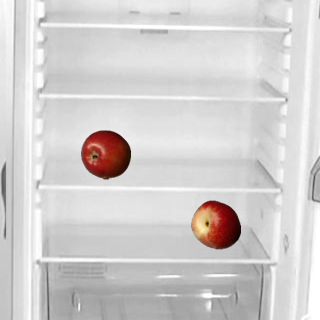Apple Braeburn: (80, 129, 130, 179)
Nectarine: (190, 199, 240, 249)
